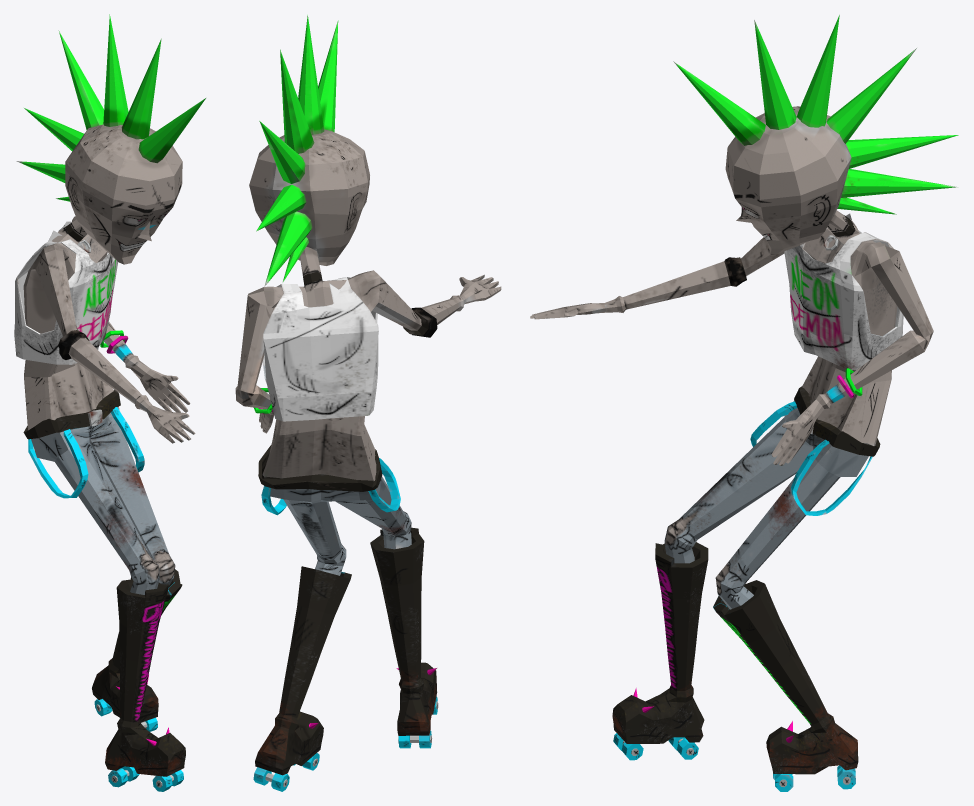
The model's file is punkAnimation_000007.obj.
The picture shows the model from 3 angles, left to right: view 1: azimuth 30°, elevation 25°; view 2: azimuth 150°, elevation 25°; view 3: azimuth 270°, elevation 25°; orthographic projection. The views are drawn at different scales.
Visible parts, largest first — view 1: Cube.004_Cube.003; view 2: Cube.004_Cube.003; view 3: Cube.004_Cube.003.
Part boxes in pixels (<box>): Cube.004_Cube.003: <box>14,14,205,791</box>; Cube.004_Cube.003: <box>235,15,501,791</box>; Cube.004_Cube.003: <box>530,15,958,791</box>.
Size of the model in its own units: 1.55 by 6.97 by 3.52.
